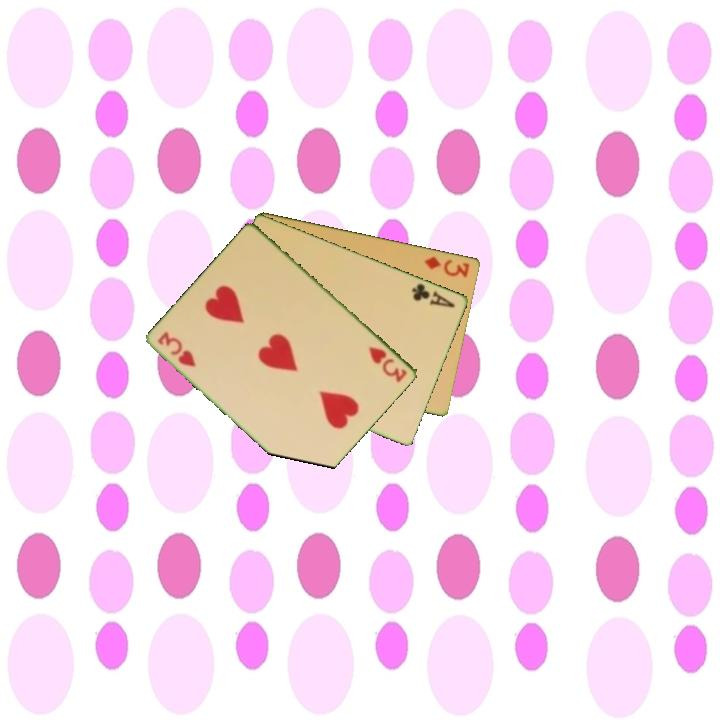3d: (421, 253, 472, 280)
3h: (365, 343, 411, 386), (154, 328, 200, 370)
Ac: (408, 280, 458, 311)
